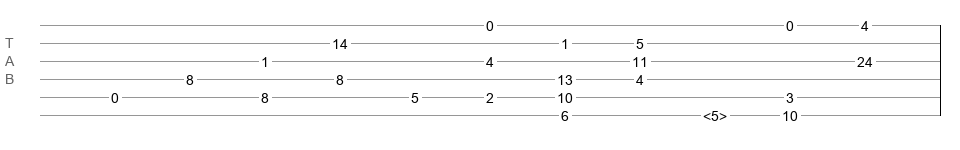0: (111, 90, 119, 100), (486, 18, 494, 28), (786, 18, 794, 28)
1: (261, 54, 269, 64), (561, 36, 569, 46)
10: (557, 90, 573, 100), (782, 108, 798, 118)
11: (632, 54, 648, 64)
13: (557, 72, 573, 82)
14: (332, 36, 348, 46)
2: (486, 90, 494, 100)
24: (857, 54, 873, 64)
3: (786, 90, 794, 100)
4: (486, 54, 494, 64), (636, 72, 644, 82), (861, 18, 869, 28)
5: (411, 90, 419, 100), (636, 36, 644, 46)
6: (561, 108, 569, 118)
8: (186, 72, 194, 82), (261, 90, 269, 100), (336, 72, 344, 82)
harmonic: (703, 108, 727, 118)
